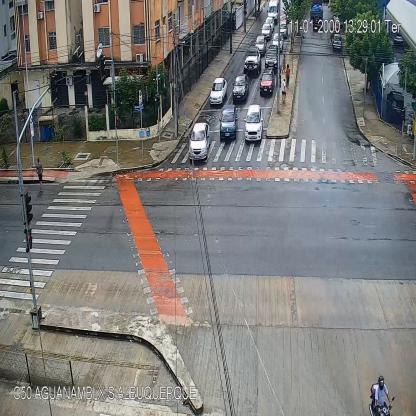car: (189, 121, 208, 162), (219, 104, 238, 141), (244, 106, 262, 142), (244, 46, 262, 75), (210, 76, 227, 102), (232, 76, 248, 101), (260, 69, 274, 94), (265, 49, 278, 71), (267, 1, 280, 23), (272, 31, 284, 50), (254, 36, 266, 53), (260, 22, 272, 38), (278, 21, 288, 38), (264, 17, 274, 30), (333, 34, 341, 48)
person: (35, 158, 44, 193), (281, 78, 286, 105), (282, 54, 287, 73), (286, 64, 289, 87)
truck: (310, 4, 324, 31)
